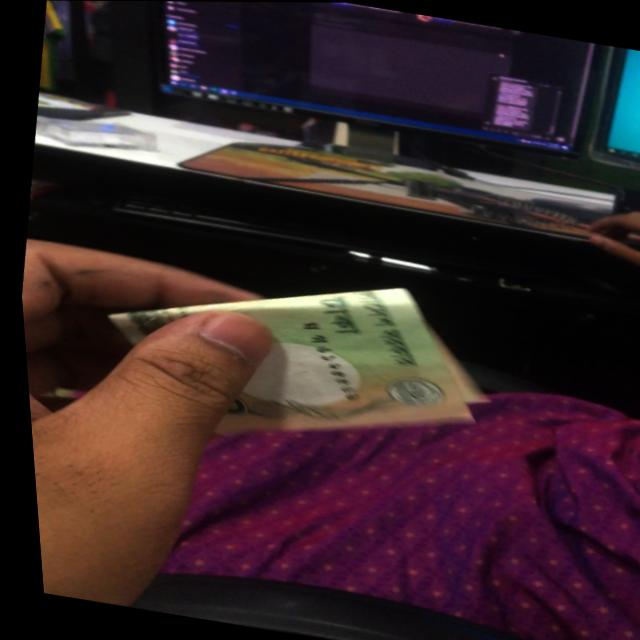Taka: (70, 239, 506, 471)
